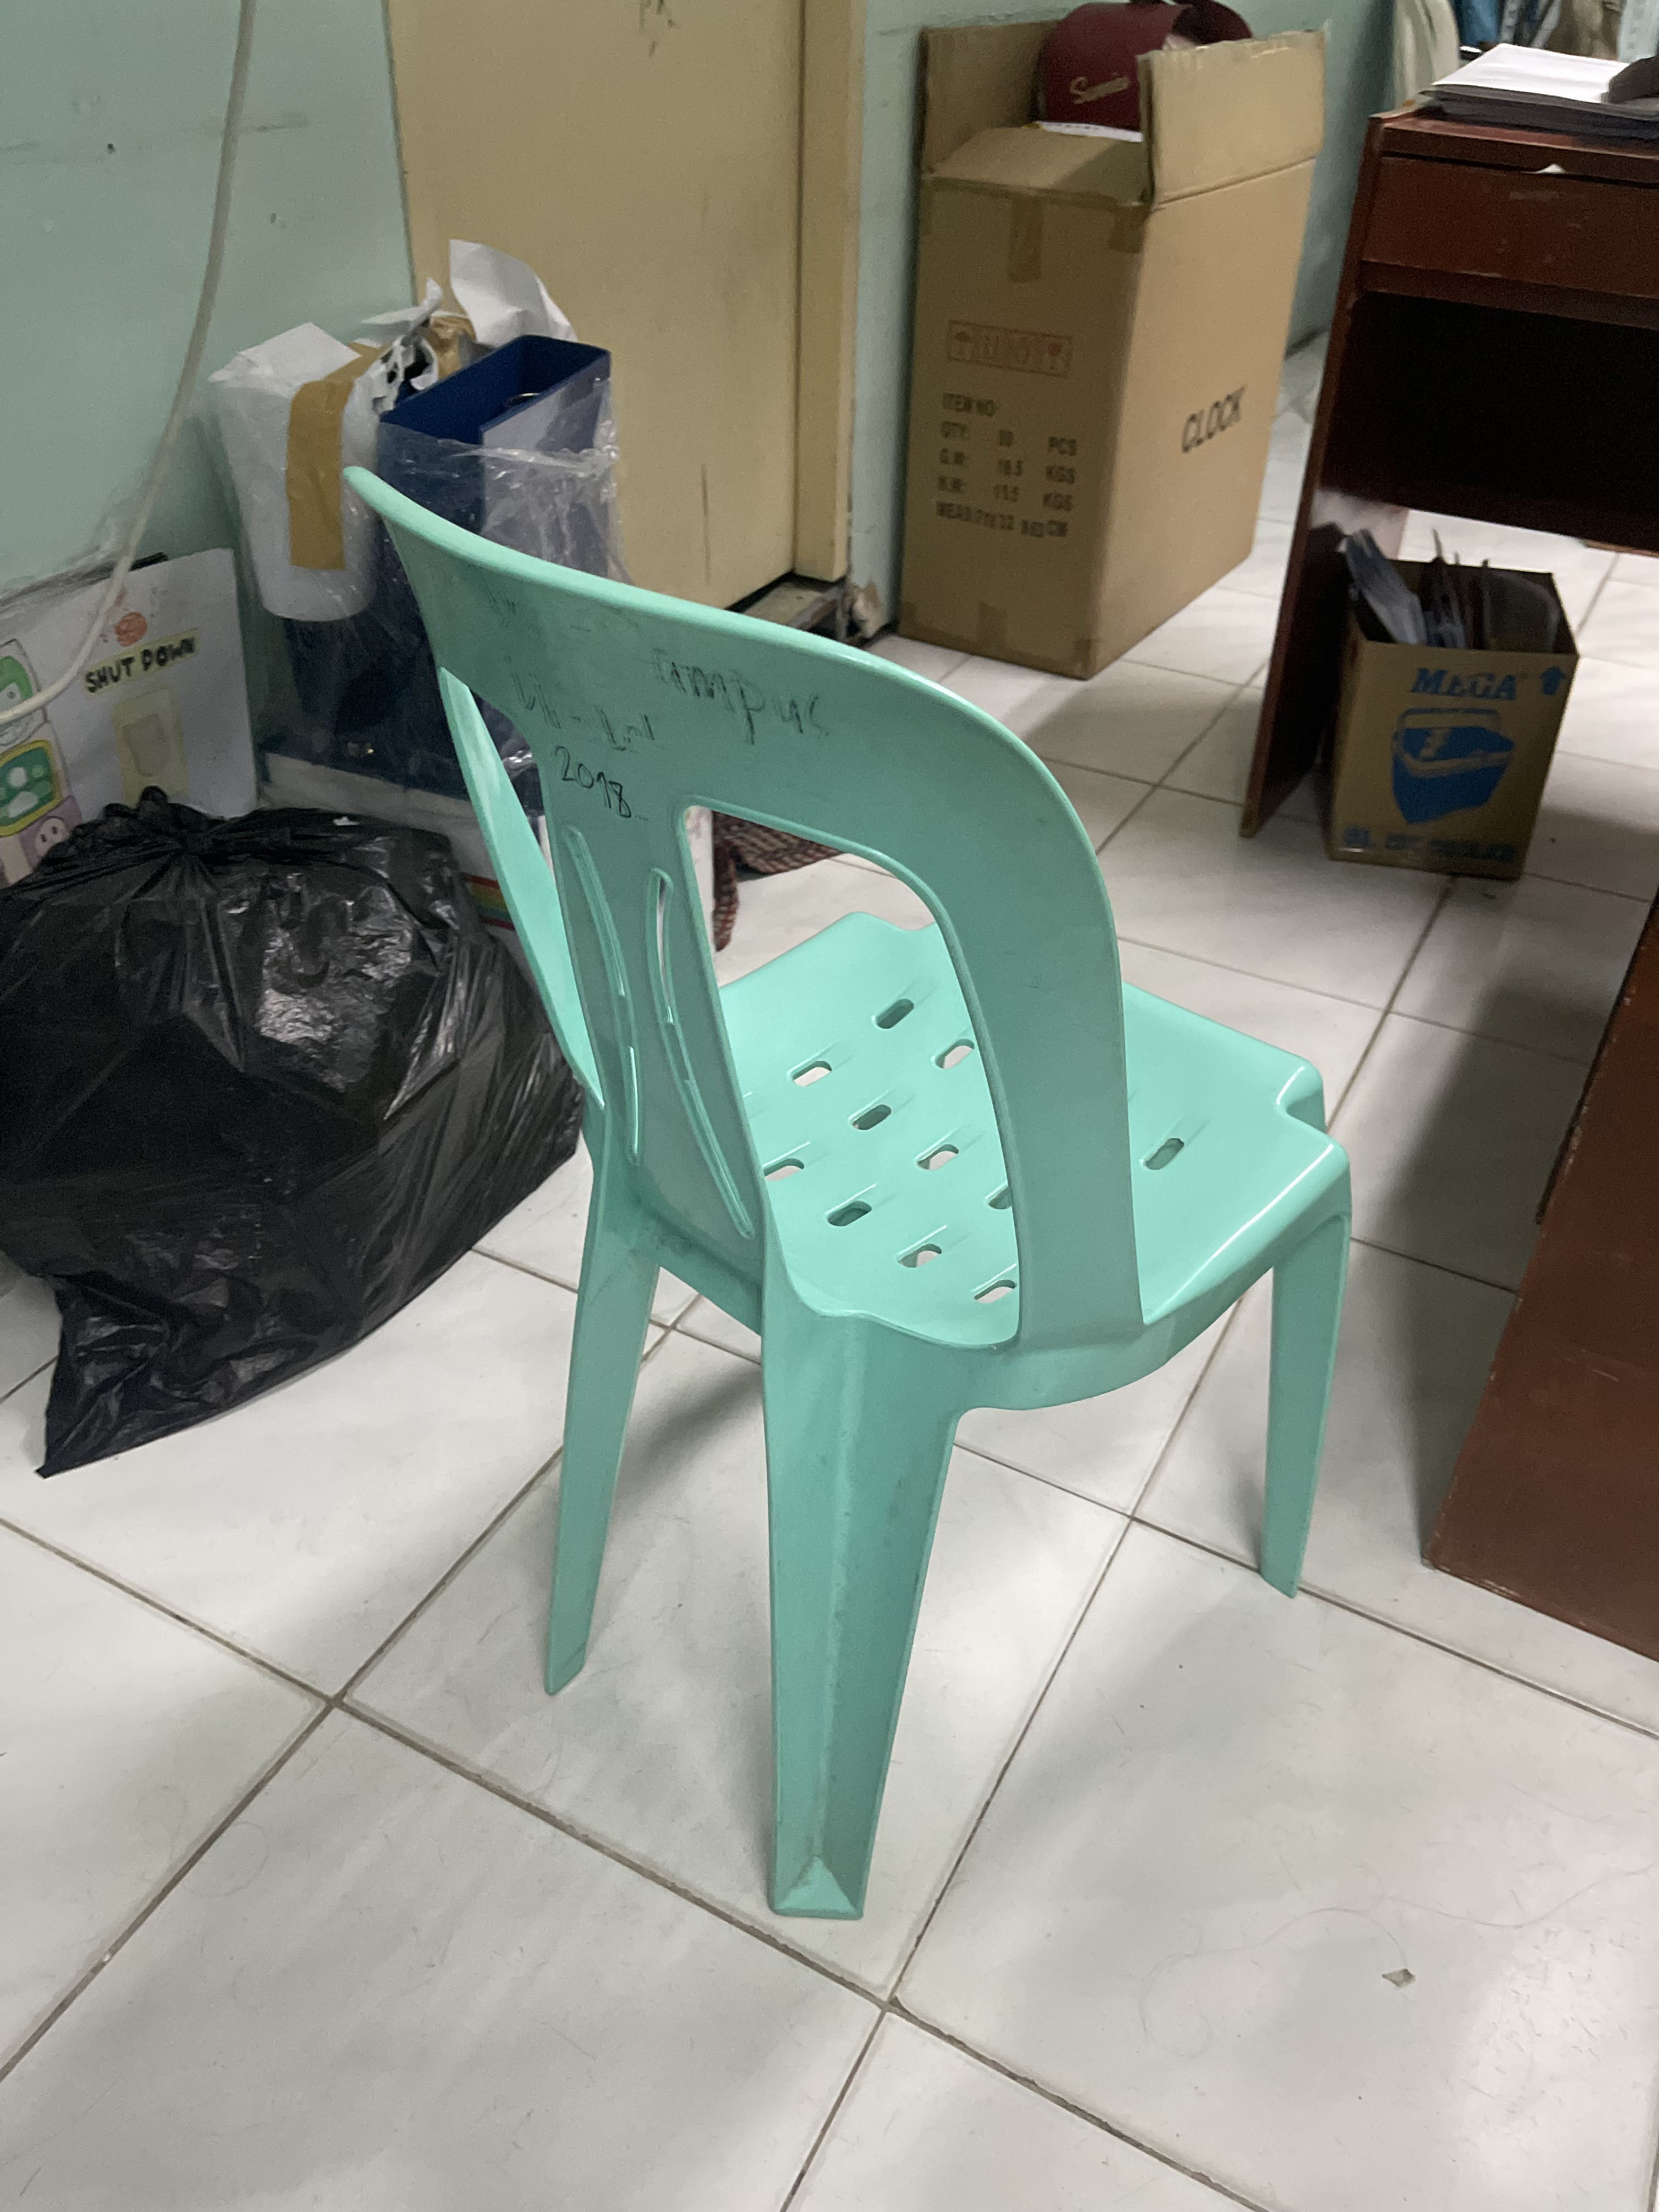chair2: (338, 449, 1361, 1958)
